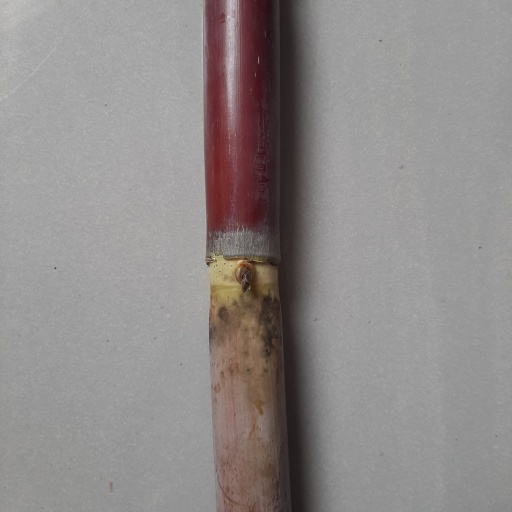Sprouted_Bud: (233, 260, 258, 294)
